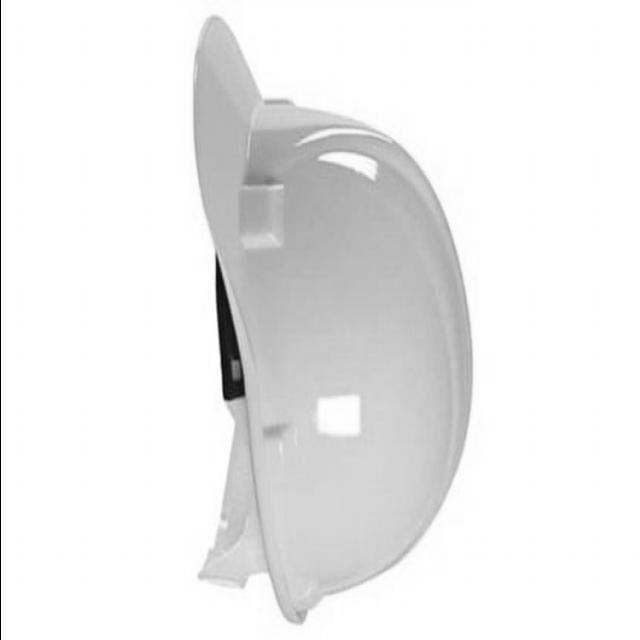construction helmet: (189, 14, 471, 626)
